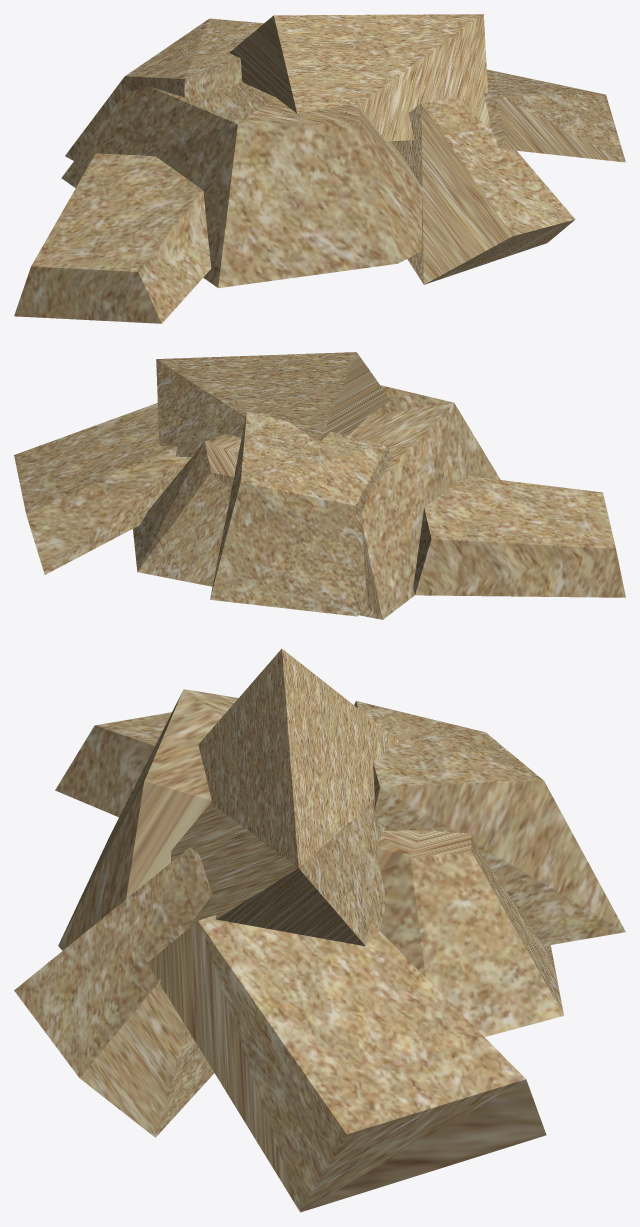
File: tatt_rock_formation_l2.fbx
The picture shows the model from 3 angles, top to bottom: view 1: azimuth 30°, elevation 25°; view 2: azimuth 150°, elevation 25°; view 3: azimuth 270°, elevation 25°; orthographic projection. The views are drawn at different scales.
Parts seen in each view (by area): view 1: mesh_node; view 2: mesh_node; view 3: mesh_node.
Part boxes in pixels (x1,y1,x2,y2): mesh_node: (14, 14, 625, 323); mesh_node: (14, 352, 625, 619); mesh_node: (14, 649, 625, 1212).
Bounding box in the file's own units: 14.29 × 5.33 × 8.73.
1 material, 1 textured.
